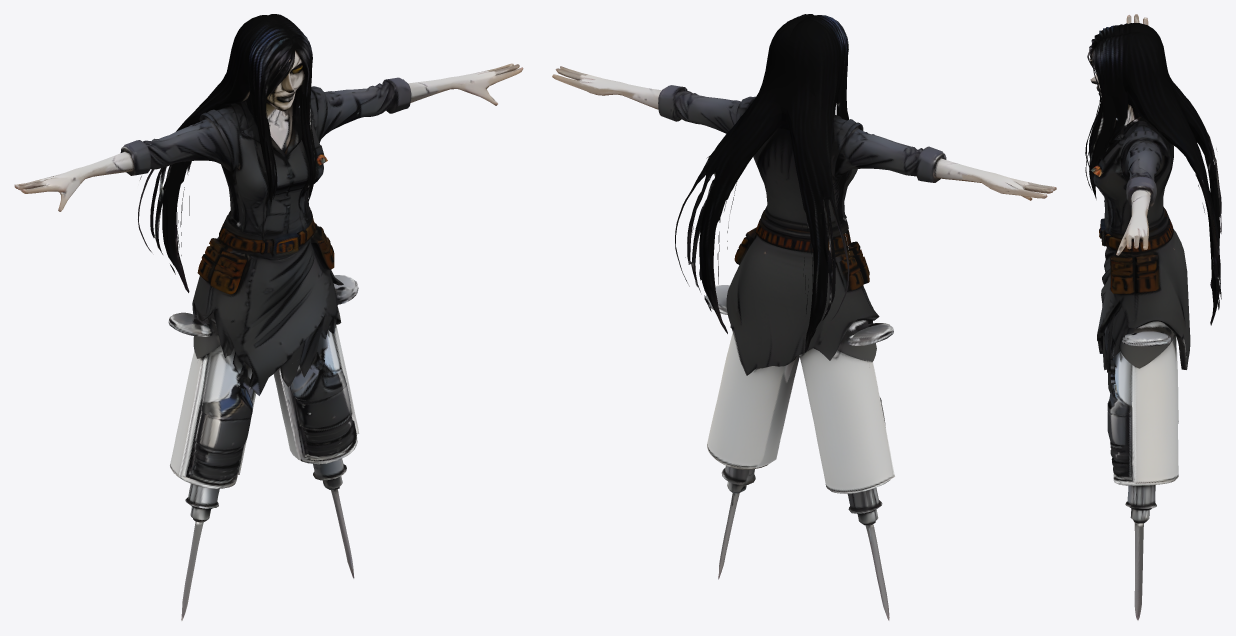
File: base_basic_shaded.fbx
3 renders of one model, left to right at view 1: azimuth 30°, elevation 25°; view 2: azimuth 150°, elevation 25°; view 3: azimuth 270°, elevation 25°, orthographic. The views are drawn at different scales.
Visible parts, largest first — view 1: model; view 2: model; view 3: model.
Part boxes in pixels (x1,y1,x2,y2): model: [14, 14, 523, 621]; model: [552, 14, 1056, 621]; model: [1085, 14, 1221, 621].
Size of the model in its own units: 160 by 179 by 39.69.
